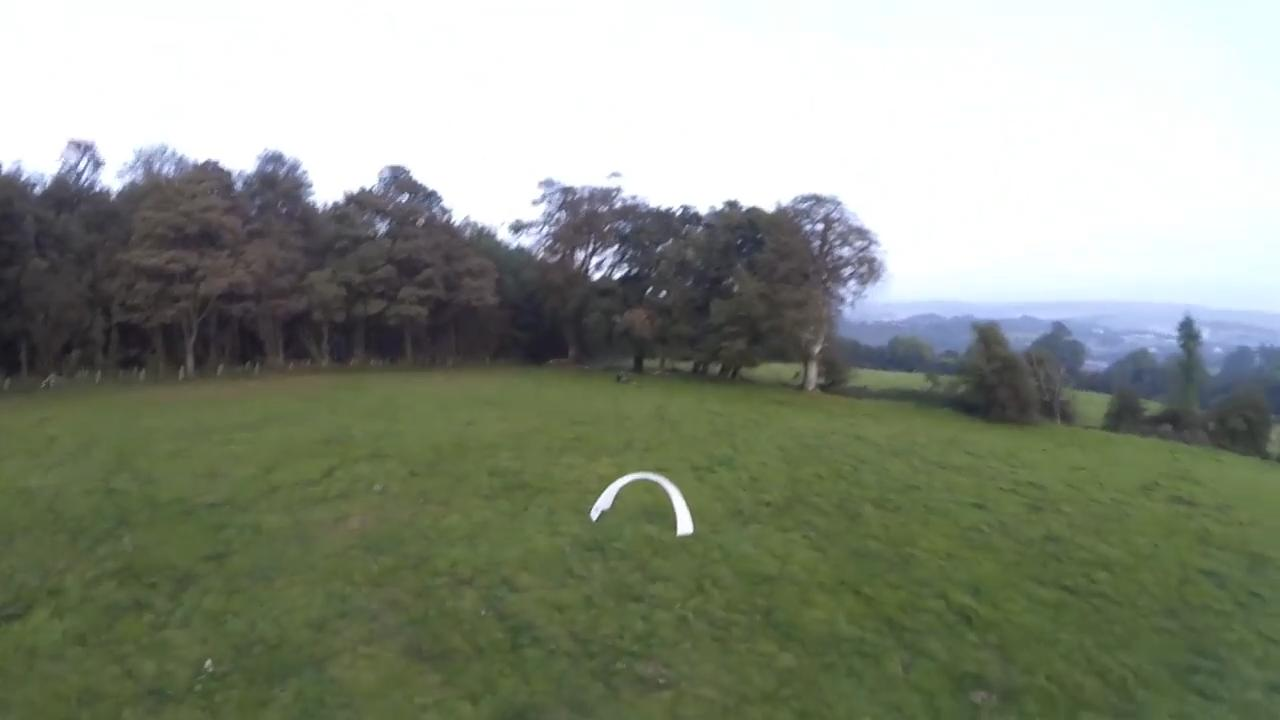gate: (591, 469, 694, 537)
